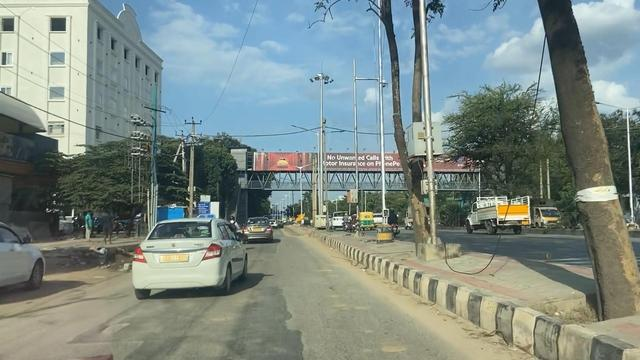LMV: (134, 218, 235, 295), (241, 215, 274, 242)
UnsurfacedRoad: (106, 300, 307, 360)
